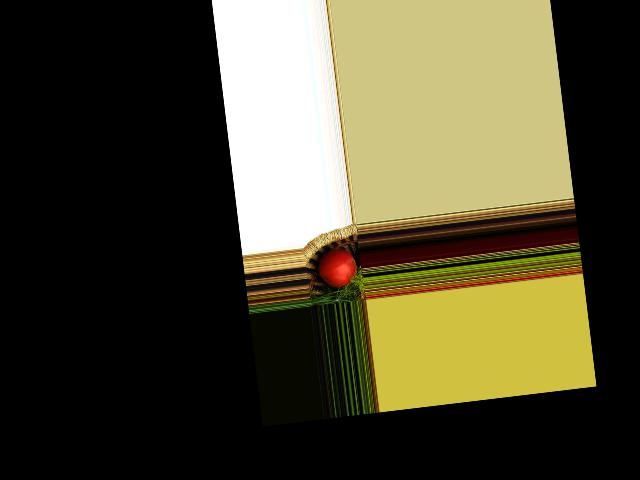tomato: (316, 247, 358, 290)
